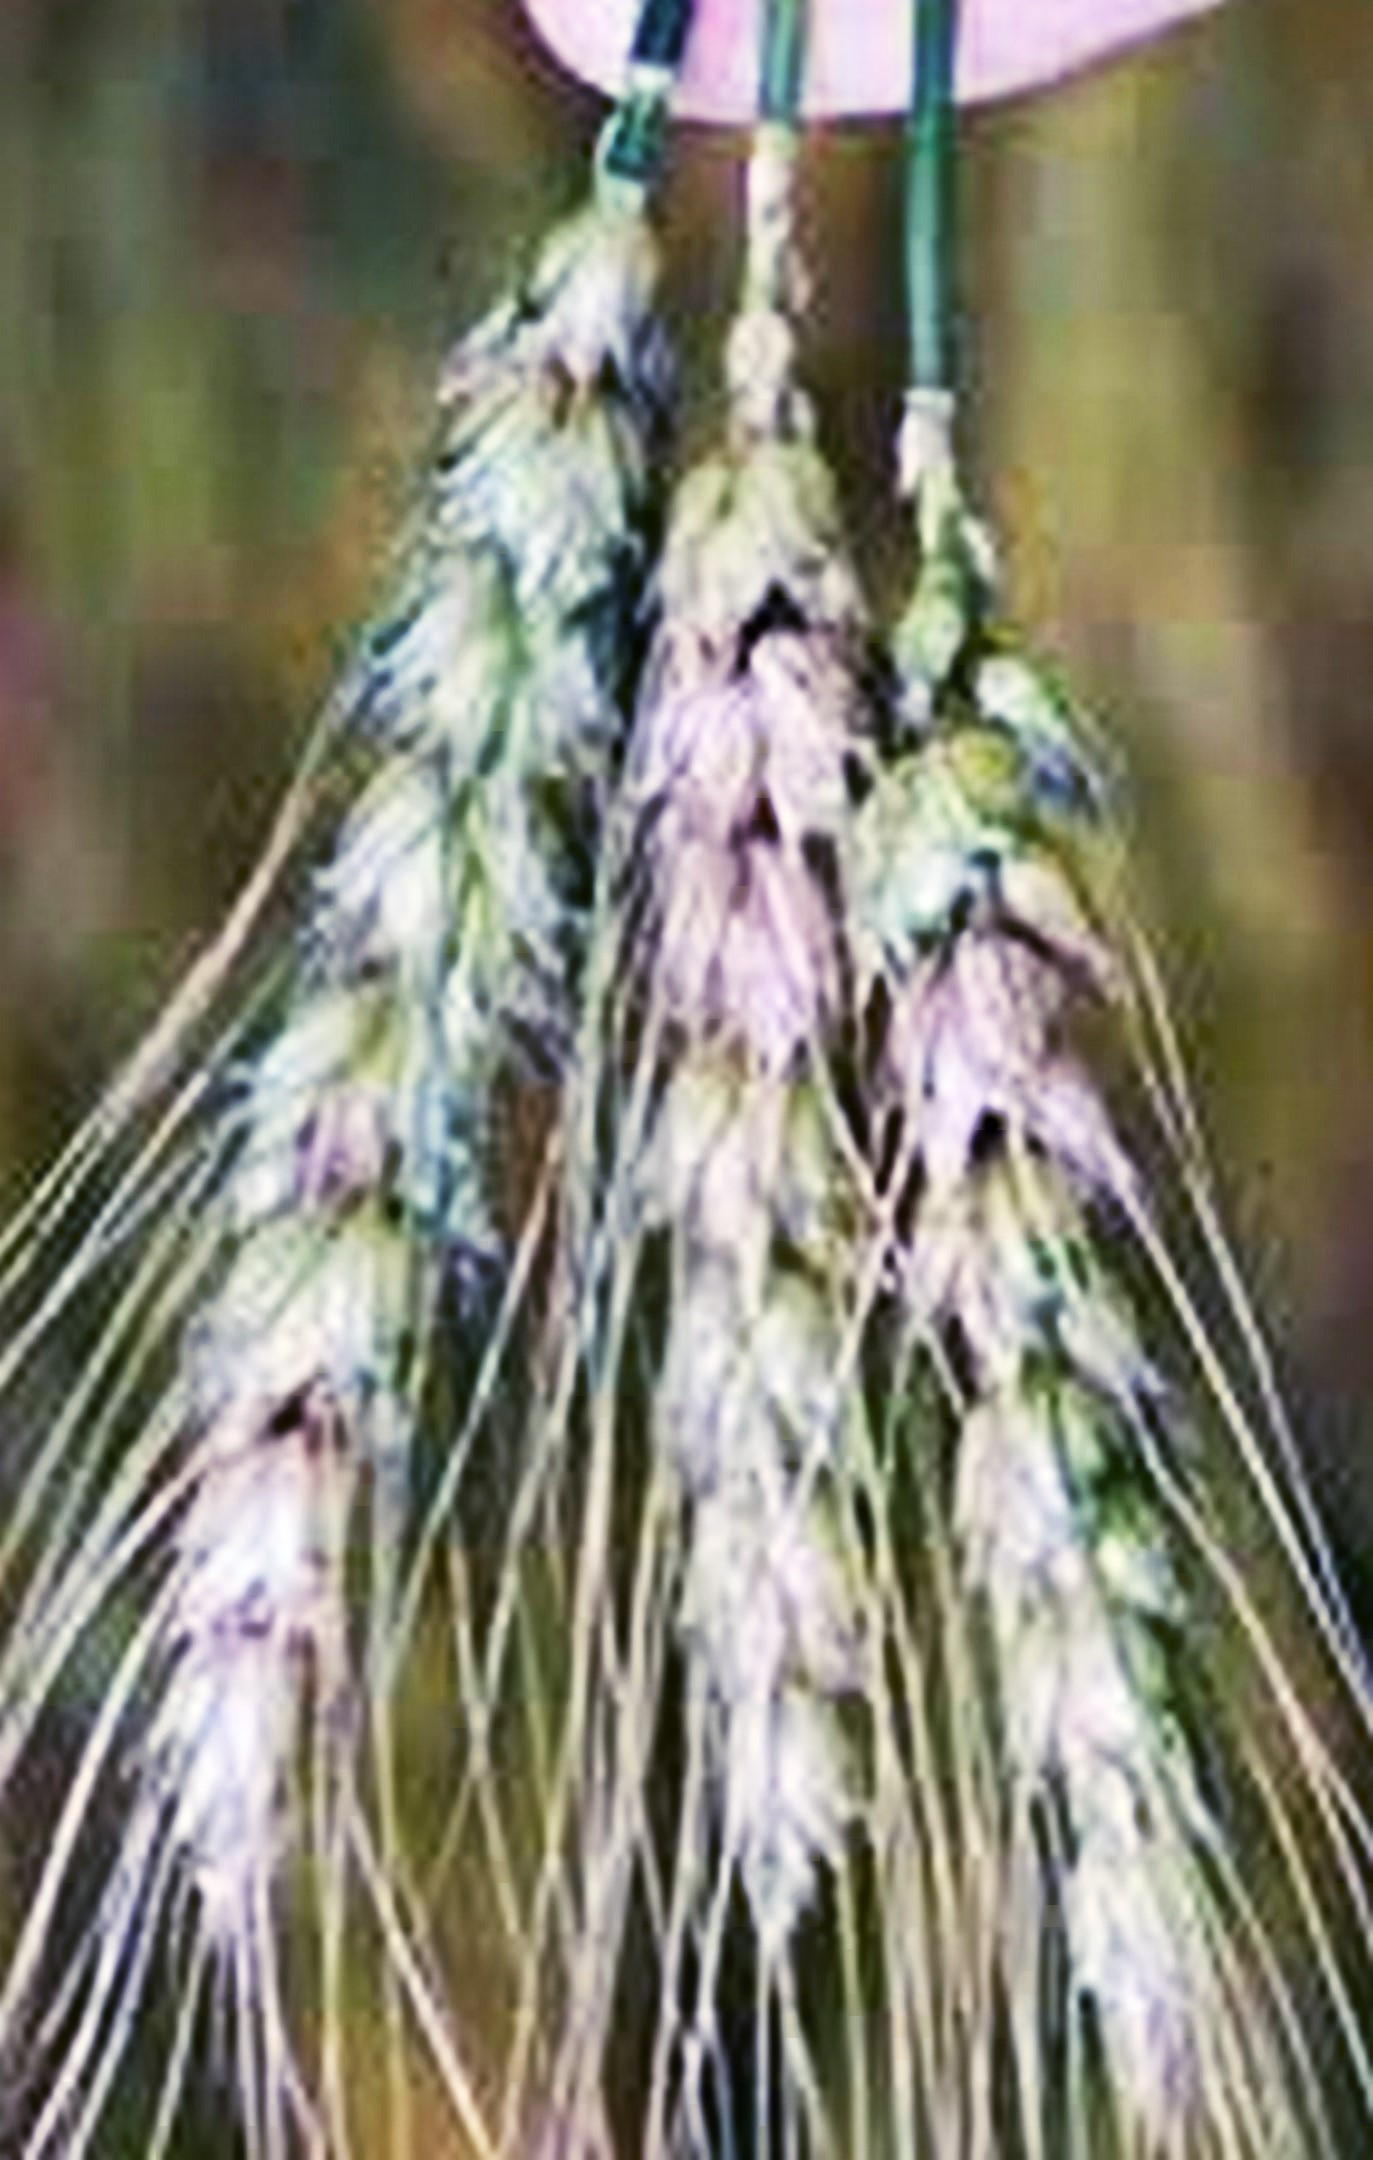Wheat scab: (575, 368, 915, 1919)
